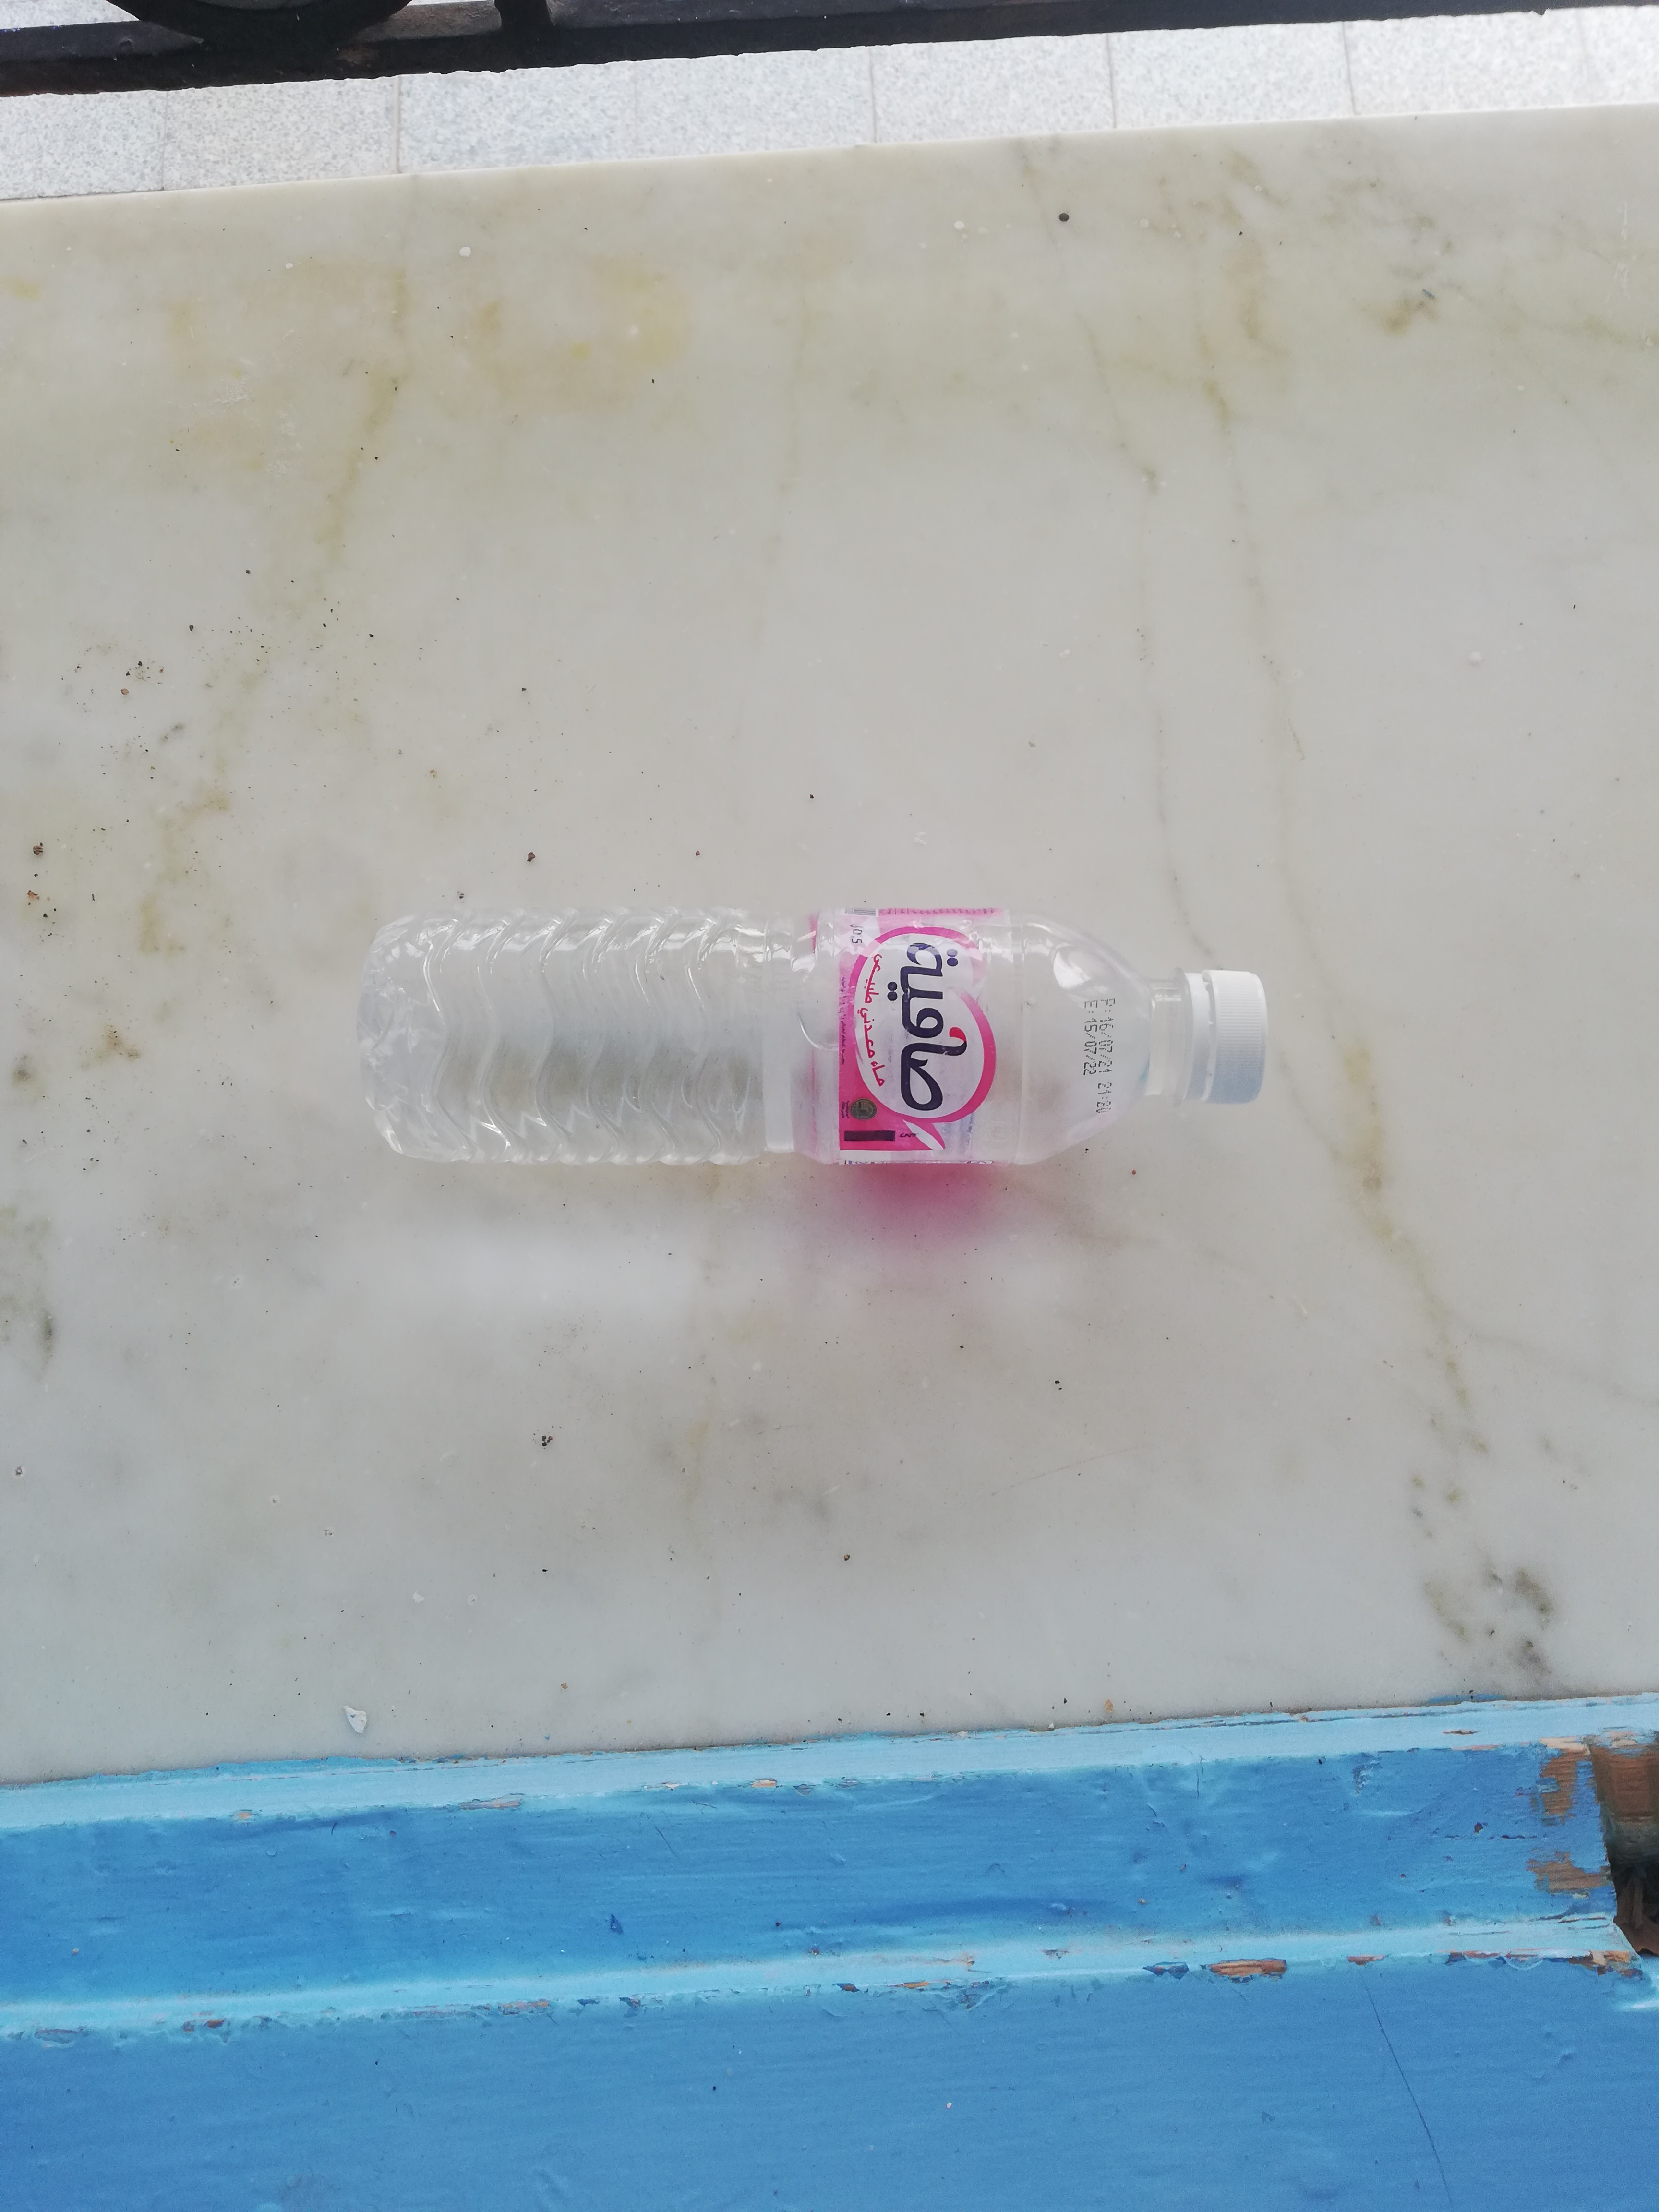Eau safia: (349, 904, 1276, 1181)
